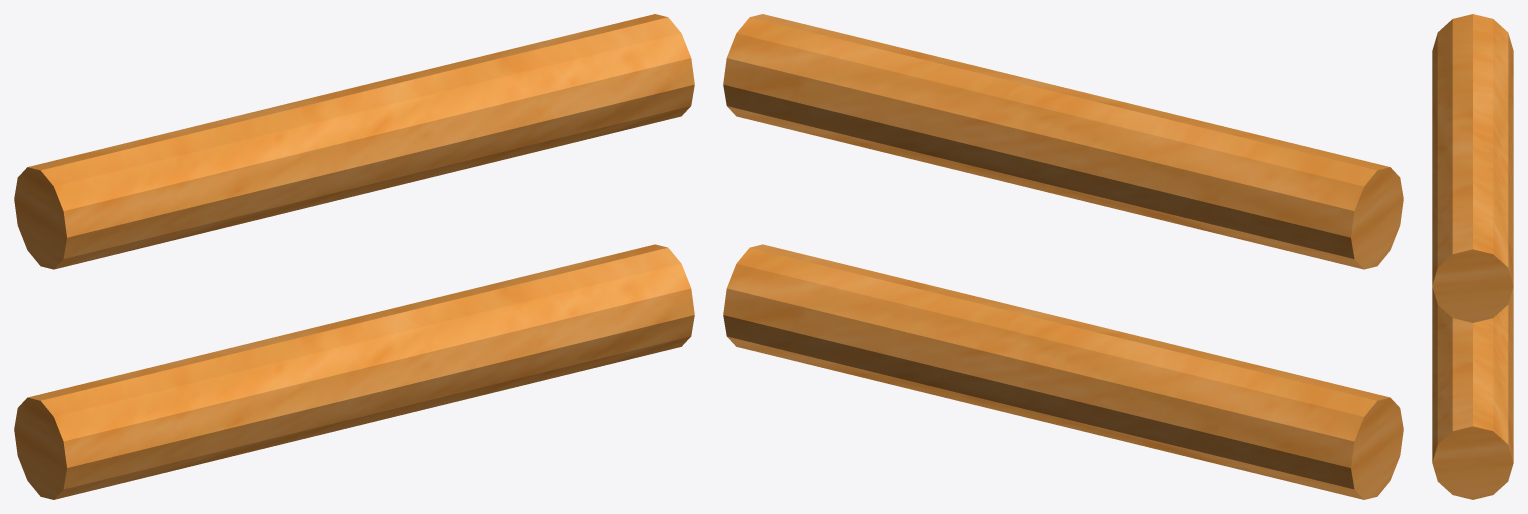
File: FenceSegmentNoPostsShort.fbx
The picture shows the model from 3 angles, left to right: view 1: azimuth 30°, elevation 25°; view 2: azimuth 150°, elevation 25°; view 3: azimuth 270°, elevation 25°; orthographic projection. The views are drawn at different scales.
Parts seen in each view (by area): view 1: FenceSegmentNoPostShort; view 2: FenceSegmentNoPostShort; view 3: FenceSegmentNoPostShort.
Part boxes in pixels (<box>): FenceSegmentNoPostShort: <box>14,14,694,499</box>; FenceSegmentNoPostShort: <box>723,14,1403,499</box>; FenceSegmentNoPostShort: <box>1432,14,1513,499</box>.
Size of the model in its own units: 3.42 by 1.7 by 0.4997.
